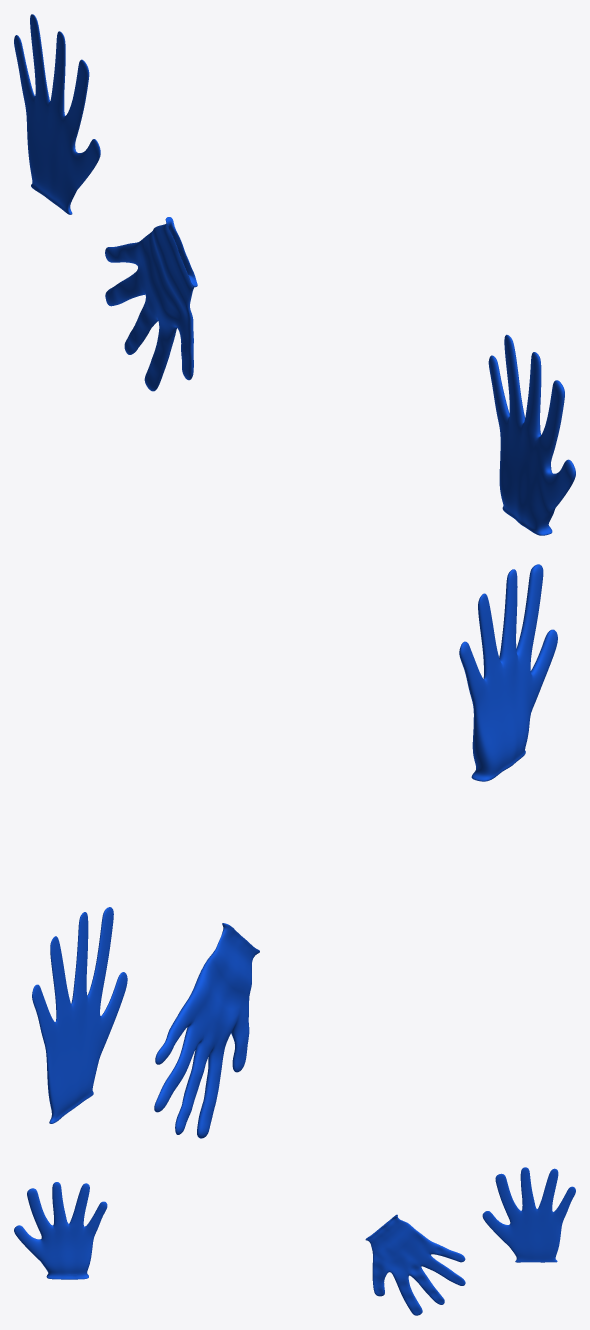
File: rubberGloveFlat.fbx
The picture shows the model from 3 angles, top to bottom: view 1: azimuth 30°, elevation 25°; view 2: azimuth 150°, elevation 25°; view 3: azimuth 270°, elevation 25°; orthographic projection. The views are drawn at different scales.
Parts seen in each view (by area): view 1: Cube.002, Cube.003, Cube.001; view 2: Cube.002, Cube.001, Cube.003; view 3: Cube.002, Cube.001, Cube.003.
Part boxes in pixels (x1,y1,x2,y2): Cube.002: [488, 334, 575, 535]; Cube.003: [14, 14, 100, 214]; Cube.001: [105, 217, 197, 391]; Cube.002: [459, 564, 557, 781]; Cube.001: [154, 923, 259, 1138]; Cube.003: [32, 907, 127, 1123]; Cube.002: [14, 1182, 107, 1279]; Cube.001: [365, 1214, 465, 1315]; Cube.003: [482, 1167, 575, 1262].
Bounding box in the file's own units: 431 × 1714 × 5782.
